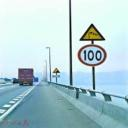speed_limit_100: (76, 43, 108, 69)
